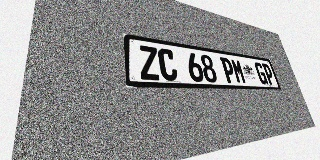6: (185, 52, 205, 82)
8: (199, 54, 218, 82)
C: (157, 48, 178, 81)
G: (254, 62, 269, 84)
M: (230, 58, 247, 84)
P: (220, 57, 237, 83), (261, 63, 276, 85)
Z: (138, 45, 161, 80)
